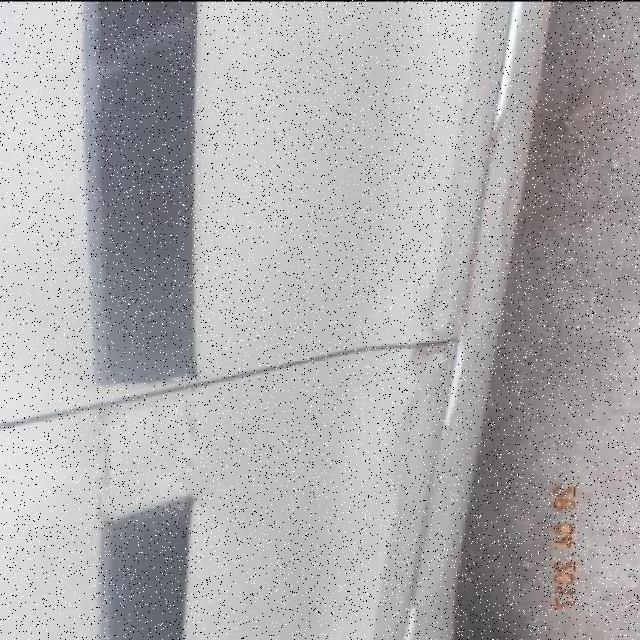damage: (396, 350, 445, 481), (419, 280, 462, 332)
